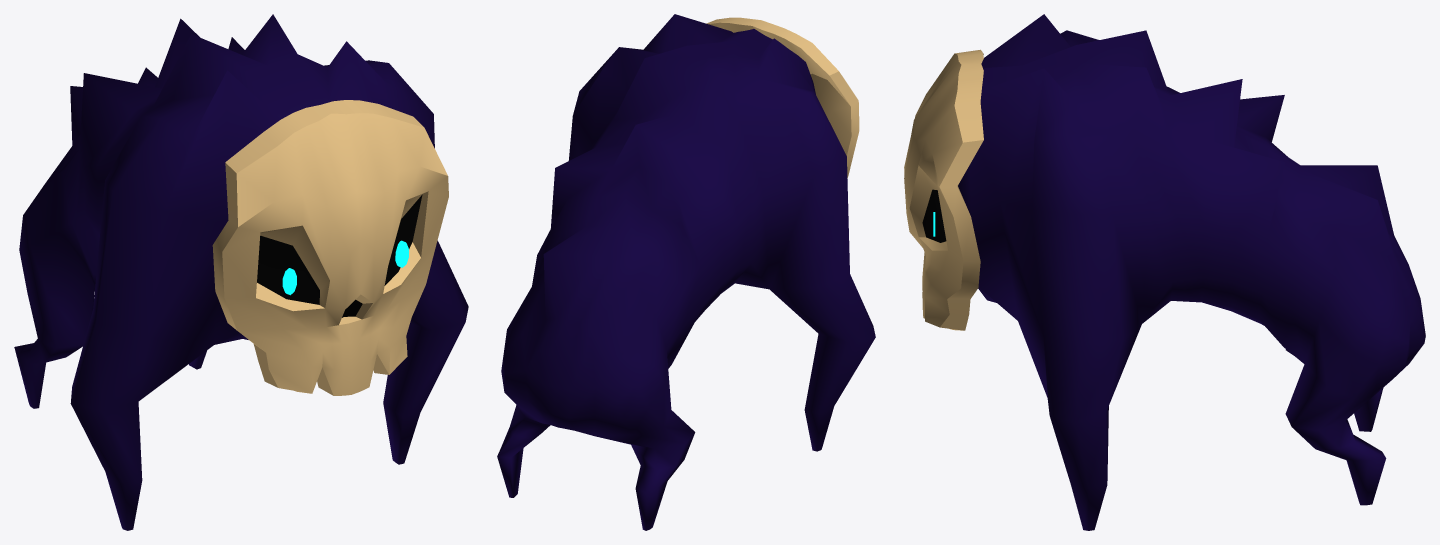
Rendered from Test_Monster.fbx.
3 views of the same model, side by side, from view 1: azimuth 30°, elevation 25°; view 2: azimuth 150°, elevation 25°; view 3: azimuth 270°, elevation 25° (orthographic). The views are drawn at different scales.
Visible parts, largest first — view 1: monster, MonsterSkull, MonsterSkull_Eyes; view 2: monster, MonsterSkull; view 3: monster, MonsterSkull.
Boxes of the visible parts, left/top/right/bottom form: monster: left=14, top=14, right=468, bottom=530; MonsterSkull: left=212, top=100, right=448, bottom=395; MonsterSkull_Eyes: left=282, top=240, right=408, bottom=295; monster: left=497, top=14, right=875, bottom=530; MonsterSkull: left=706, top=17, right=859, bottom=178; monster: left=958, top=14, right=1425, bottom=530; MonsterSkull: left=904, top=49, right=983, bottom=330.
Bounding box in the file's own units: 1.08 × 1.18 × 1.31.
